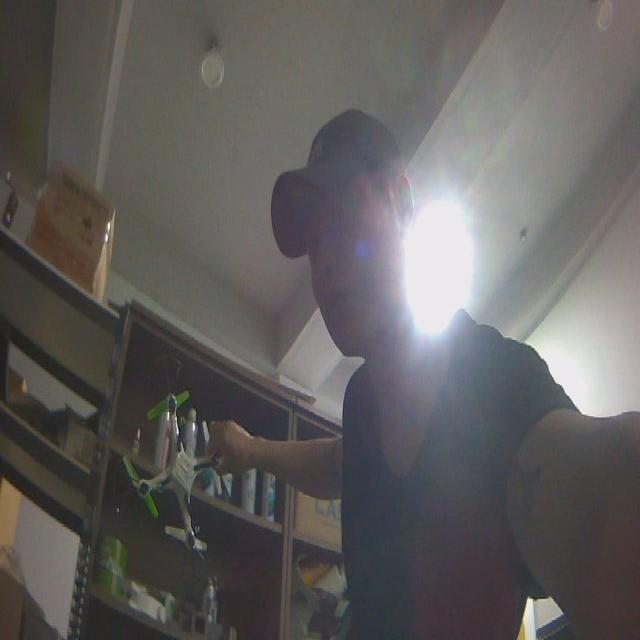drone: (109, 352, 241, 591)
